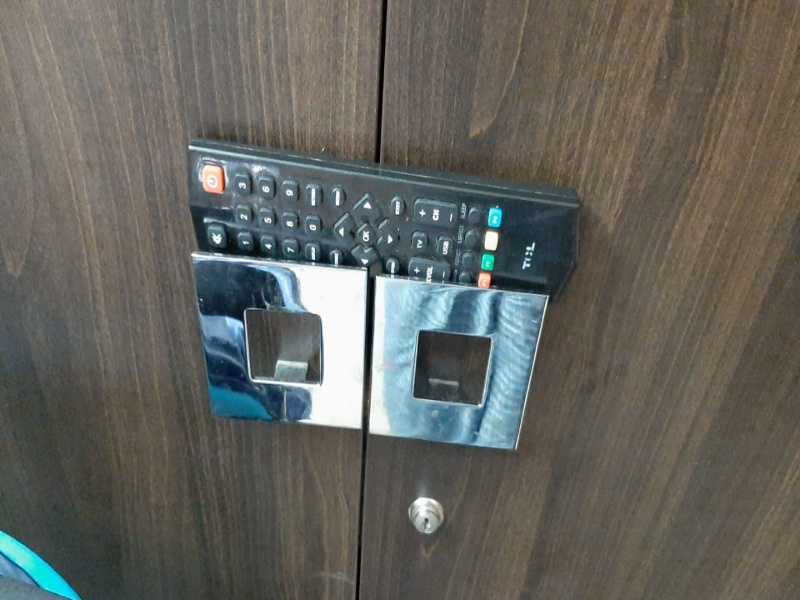remote: (170, 121, 588, 301)
